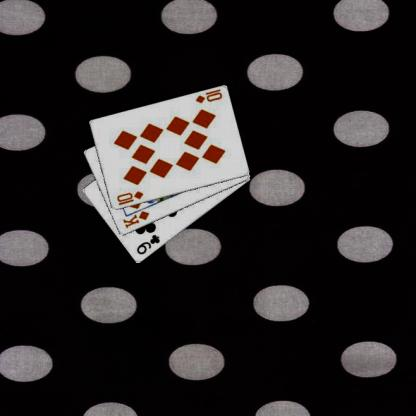10D: (114, 188, 144, 207), (193, 87, 223, 105)
9C: (134, 232, 161, 256)
KD: (120, 208, 151, 229)
